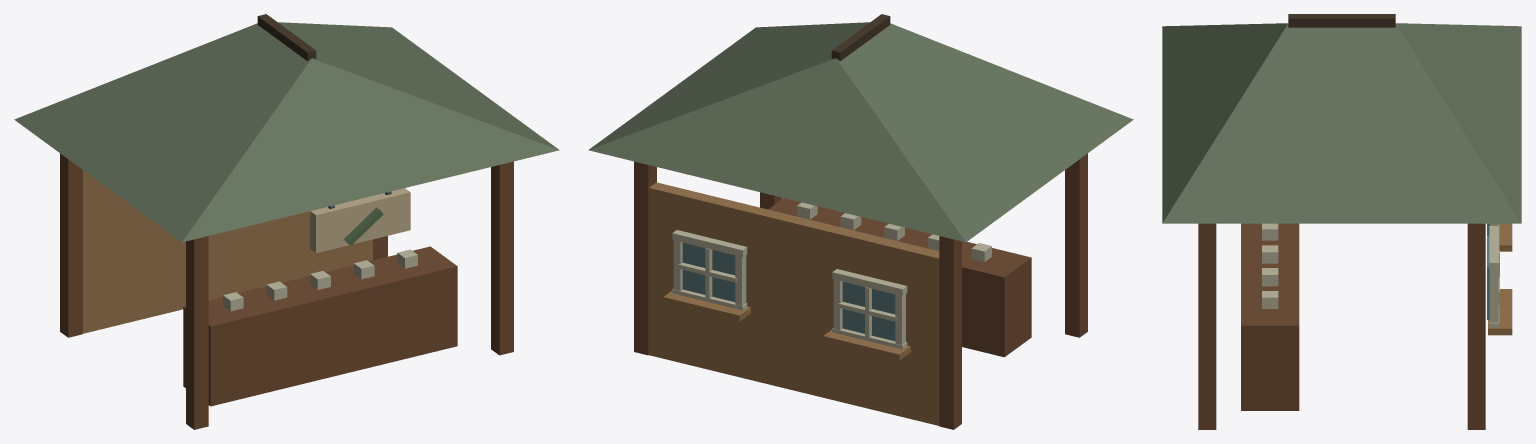
File: Building_Settlement_TeaPavilionShop_001.glb
3 views of the same model, side by side, from view 1: azimuth 30°, elevation 25°; view 2: azimuth 150°, elevation 25°; view 3: azimuth 270°, elevation 25° (orthographic). The views are drawn at different scales.
Parts seen in each view (by area): view 1: Building_Settlement_TeaPavilionShop_001; view 2: Building_Settlement_TeaPavilionShop_001; view 3: Building_Settlement_TeaPavilionShop_001.
Part boxes in pixels (<box>): Building_Settlement_TeaPavilionShop_001: <box>14,14,559,429</box>; Building_Settlement_TeaPavilionShop_001: <box>588,14,1133,429</box>; Building_Settlement_TeaPavilionShop_001: <box>1162,14,1521,429</box>.
Bounding box in the file's own units: 5.2 × 4.05 × 4.
